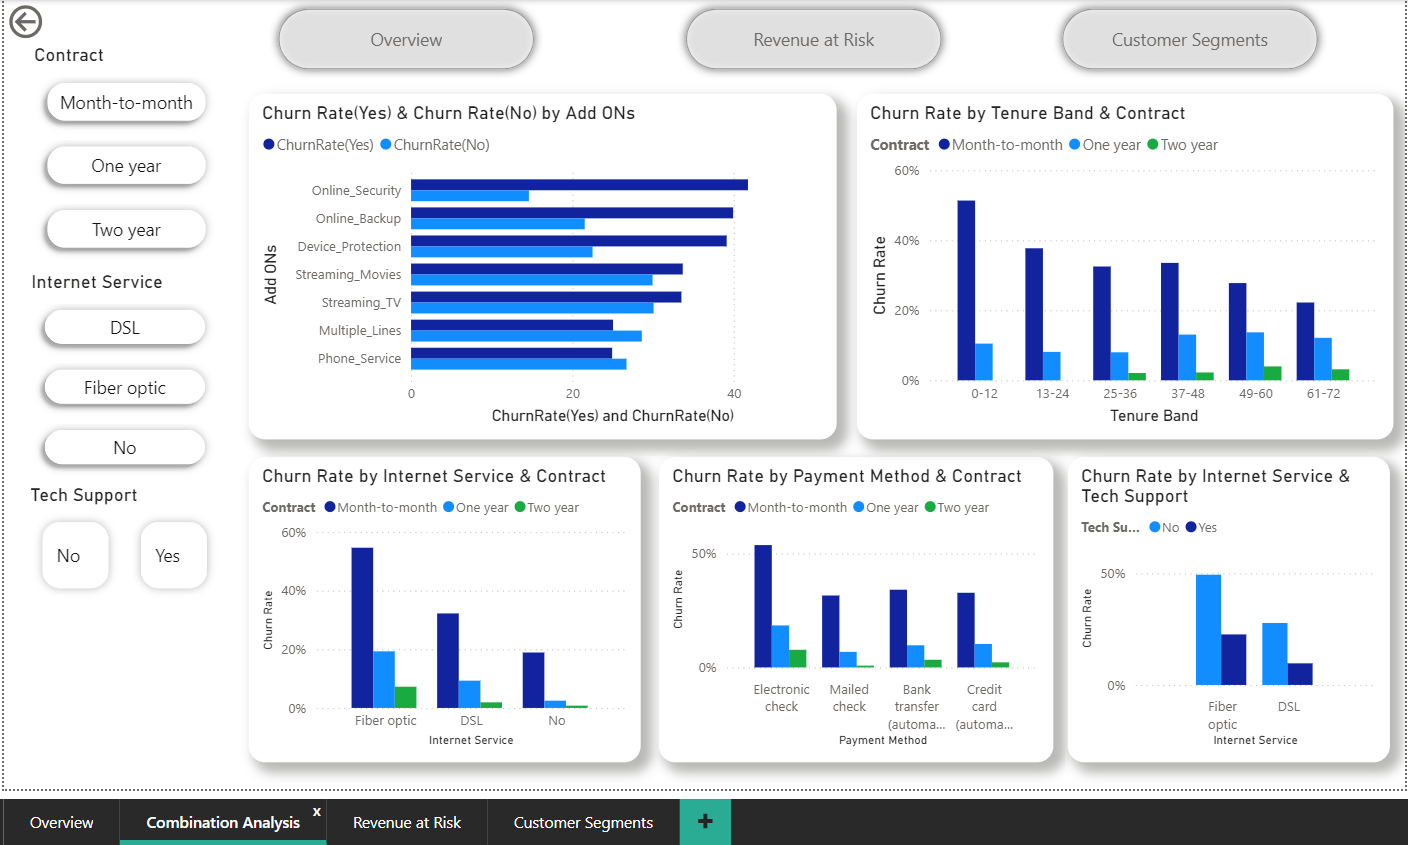

The dashboard page shown, as its layout file describes it:
{"tool":"powerbi","page":{"name":"Combination Analysis","canvas":[1280,720],"ordinal":1},"visuals":[{"type":"actionButton","box":[0,0,100,40],"z":0},{"type":"clusteredBarChart","title":"Churn Rate(Yes) & Churn Rate(No) by Add ONs","fields":{"Category":["Add-ON Ranking.Add ONs"],"Y":["Sum(Add-ON Ranking.No_Churn Rate(%))","Sum(Add-ON Ranking.Yes_Churn Rate(%))"]},"box":[223,85.8,537.2,315.4],"z":1000},{"type":"clusteredColumnChart","title":"Churn Rate by Internet Service & Contract","fields":{"Category":["TELCO Churn.Internet Service"],"Y":["TELCO Churn.Churn Rate"],"Series":["TELCO Churn.Contract"]},"box":[223,417.1,357.7,278.5],"z":2000},{"type":"clusteredColumnChart","title":"Churn Rate by Payment Method  & Contract","fields":{"Category":["TELCO Churn.Payment Method"],"Y":["TELCO Churn.Churn Rate"],"Series":["TELCO Churn.Contract"]},"box":[597.9,417.1,360.3,278.5],"z":3000},{"type":"clusteredColumnChart","title":"Churn Rate by Tenure Band & Contract","fields":{"Category":["TELCO Churn.Tenure Band"],"Y":["TELCO Churn.Churn Rate"],"Series":["TELCO Churn.Contract"]},"box":[778.7,85.8,489.7,315.4],"z":4000},{"type":"clusteredColumnChart","title":"Churn Rate by Internet Service & Tech Support","fields":{"Category":["TELCO Churn.Internet Service"],"Y":["TELCO Churn.Churn Rate"],"Series":["TELCO Churn.Tech Support"]},"box":[971.4,417.1,294.3,278.5],"z":5000},{"type":"advancedSlicerVisual","title":"Tech Support","fields":{"Values":["TELCO Churn.Tech Support"]},"box":[18.5,442.1,182.1,110.9],"z":7000},{"type":"advancedSlicerVisual","title":"Contract","fields":{"Values":["TELCO Churn.Contract"]},"box":[22.4,40.9,178.2,203.3],"z":8000},{"type":"advancedSlicerVisual","title":"Internet Service","fields":{"Values":["TELCO Churn.Internet Service"]},"box":[19.8,246.8,180.8,195.3],"z":9000},{"type":"actionButton","box":[242.8,0,249.4,71.3],"z":10000},{"type":"actionButton","box":[615,0,249.4,71.3],"z":11000},{"type":"actionButton","box":[958.2,0,249.4,71.3],"z":12000}]}

Visuals, with their boxes on the page's 1280x720 design canvas (x1, y1, x2, y2). These are canvas units, not pixel positions in the 1408x845 screenshot, which may show the page scaled, cropped or inside an application window:
actionButton: box(0, 0, 100, 40)
"Churn Rate(Yes) & Churn Rate(No) by Add ONs" clusteredBarChart: box(223, 86, 760, 401)
"Churn Rate by Internet Service & Contract" clusteredColumnChart: box(223, 417, 581, 696)
"Churn Rate by Payment Method  & Contract" clusteredColumnChart: box(598, 417, 958, 696)
"Churn Rate by Tenure Band & Contract" clusteredColumnChart: box(779, 86, 1268, 401)
"Churn Rate by Internet Service & Tech Support" clusteredColumnChart: box(971, 417, 1266, 696)
"Tech Support" advancedSlicerVisual: box(18, 442, 201, 553)
"Contract" advancedSlicerVisual: box(22, 41, 201, 244)
"Internet Service" advancedSlicerVisual: box(20, 247, 201, 442)
actionButton: box(243, 0, 492, 71)
actionButton: box(615, 0, 864, 71)
actionButton: box(958, 0, 1208, 71)
